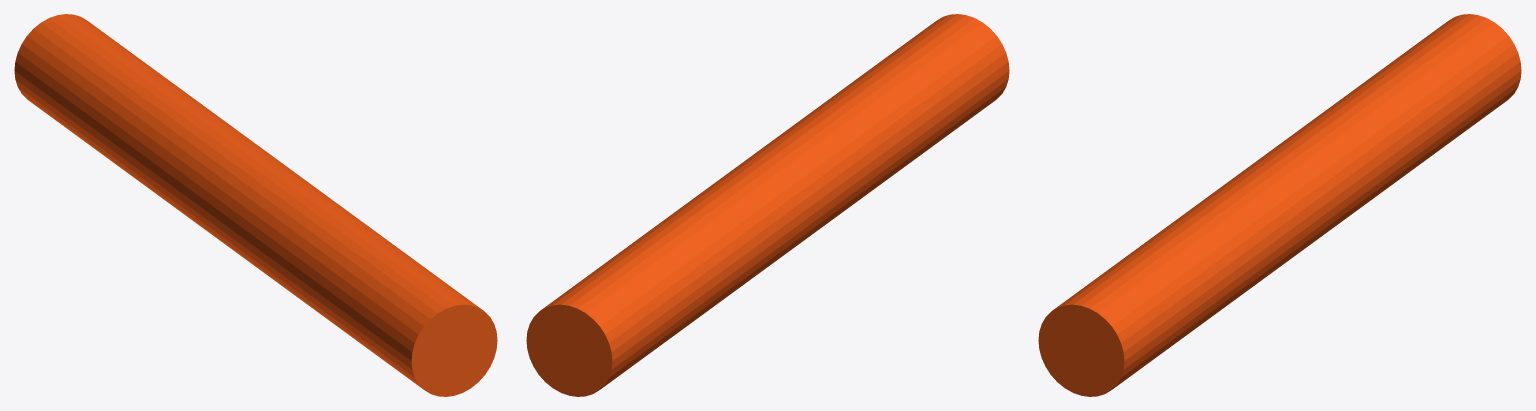
File: sausage2.obj
3 renders of one model, left to right at view 1: azimuth 30°, elevation 25°; view 2: azimuth 150°, elevation 25°; view 3: azimuth 330°, elevation 25°, orthographic.
Parts seen in each view (by area): view 1: sausage2; view 2: sausage2; view 3: sausage2.
Boxes of the visible parts, x1,y1,x2,y2 form: sausage2: (14,14,497,396); sausage2: (526,14,1009,396); sausage2: (1038,14,1521,396).
Bounding box in the file's own units: 0.02 × 0.02 × 0.16.
